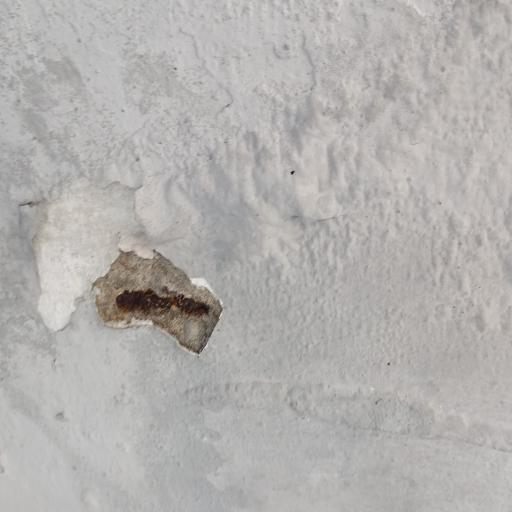exposed_rebar: (116, 287, 210, 317)
spalling: (93, 251, 222, 352)
